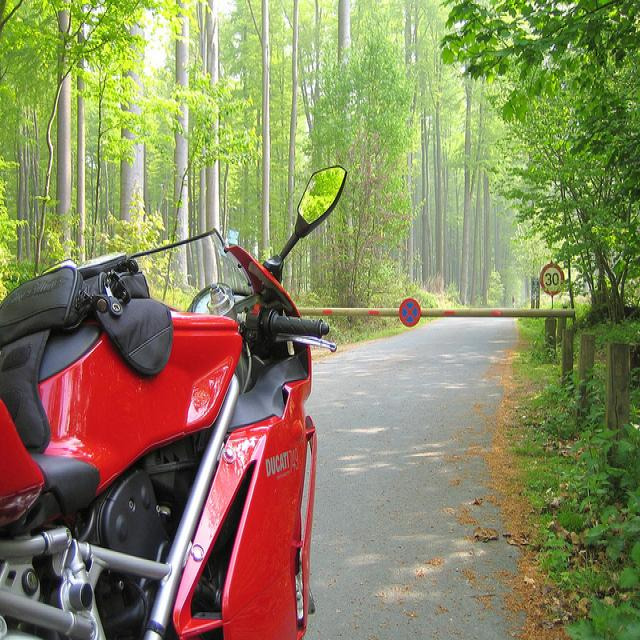motor: (0, 166, 349, 640)
